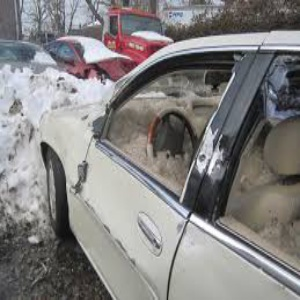door_scratch: (81, 203, 165, 276)
side_mirror: (68, 115, 105, 197)
